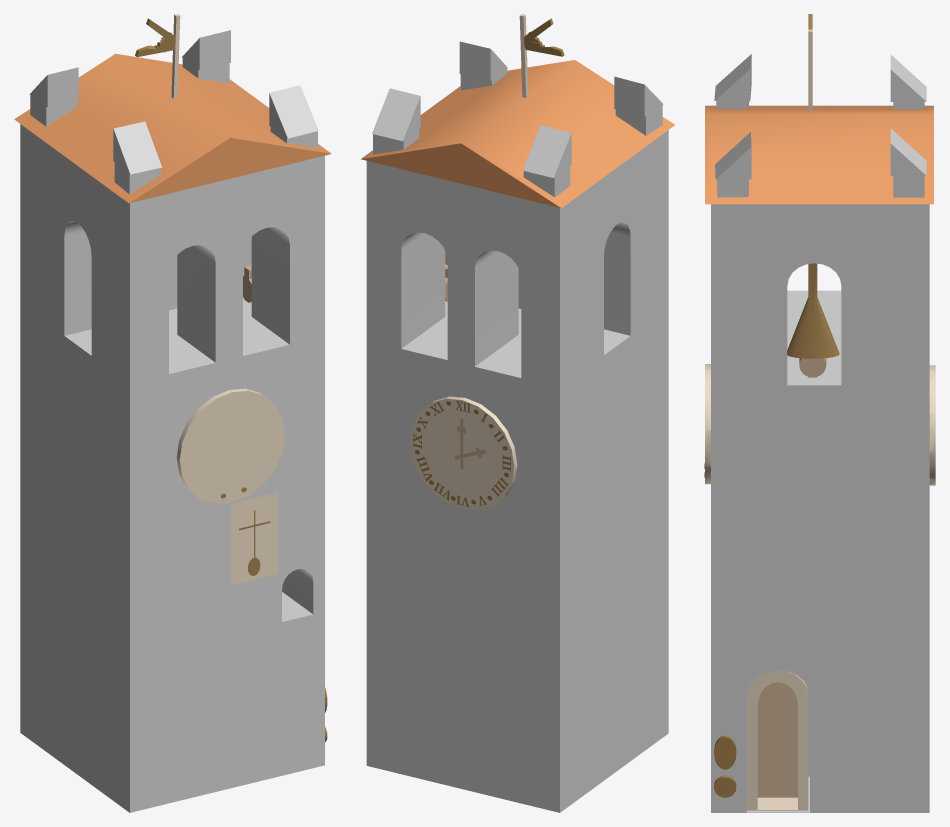
3 renders of one model, left to right at view 1: azimuth 30°, elevation 25°; view 2: azimuth 150°, elevation 25°; view 3: azimuth 270°, elevation 25°, orthographic.
Parts seen in each view (by area): view 1: Object_5, Object_4, Object_3, Object_6; view 2: Object_5, Object_4, Object_3, Object_6; view 3: Object_5, Object_4, Object_3, Object_2, Object_6.
Boxes of the visible parts, x1,y1,x2,y2 form: Object_5: (20,30,324,812); Object_4: (14,53,331,203); Object_3: (171,14,284,585); Object_6: (135,18,327,741); Object_5: (366,41,668,812); Object_4: (361,60,674,208); Object_3: (410,14,528,510); Object_6: (413,18,564,506); Object_5: (711,54,929,812); Object_4: (705,105,933,204); Object_3: (705,29,935,810); Object_2: (757,358,826,797); Object_6: (704,14,839,797).
Bounding box in the file's own units: 52 × 181 × 51.5.
